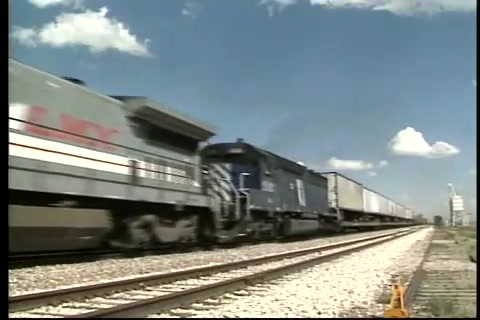train: (10, 56, 415, 257)
